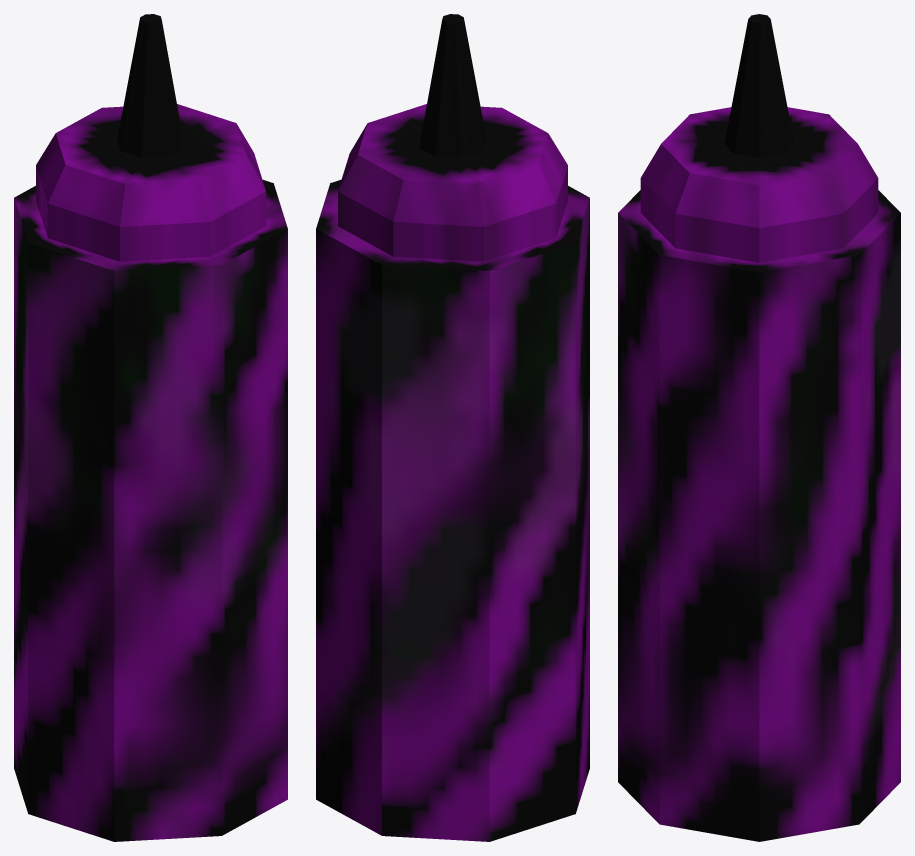
File: skippeys_special_bottle.fbx
The picture shows the model from 3 angles, left to right: view 1: azimuth 30°, elevation 25°; view 2: azimuth 150°, elevation 25°; view 3: azimuth 270°, elevation 25°; orthographic projection.
Visible parts, largest first — view 1: Skippey's Special; view 2: Skippey's Special; view 3: Skippey's Special.
Part boxes in pixels (x1=…): Skippey's Special: x1=14, y1=14, x2=287, y2=841; Skippey's Special: x1=316, y1=14, x2=589, y2=841; Skippey's Special: x1=618, y1=14, x2=900, y2=841.
Bounding box in the file's own units: 0.1313 × 0.1313 × 0.3913.
